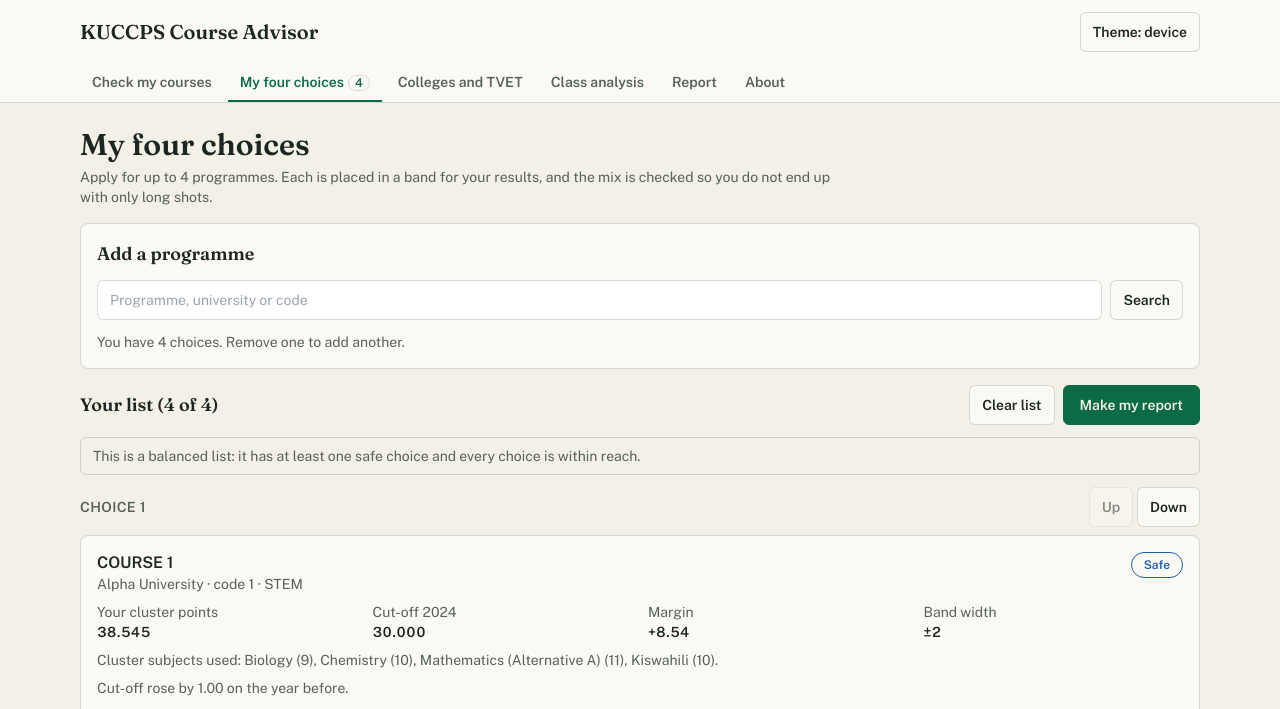
Scenario: my four choices › will not add a fifth programme
The width and height of the screenshot is (1280, 709).
Expected: the heading "My four choices" is shown, [80, 126, 310, 163]
Click the button "Search": (1147, 300) [1110, 280, 1183, 320]
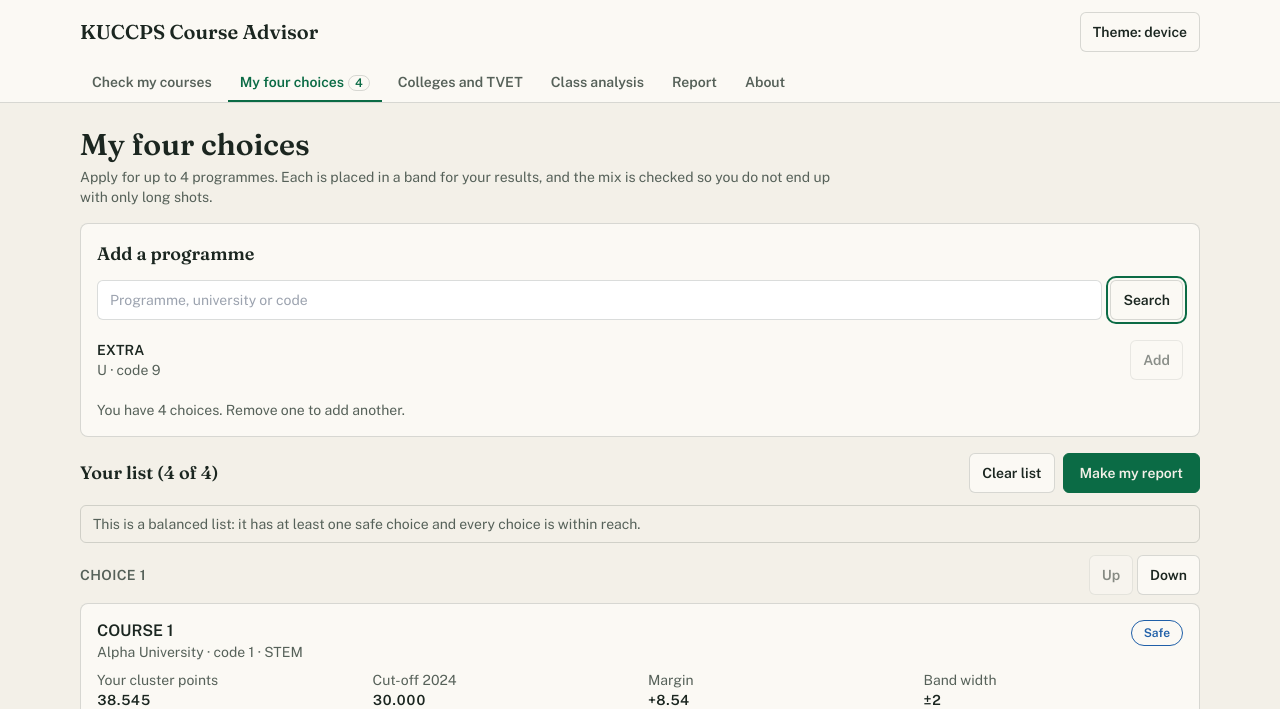
Expected: the text "You have 4 choices. Remove one to add another." is shown, [97, 402, 405, 418]
Result: the button with aria-label "Add EXTRA, U" is disabled at [1130, 340, 1183, 380]
